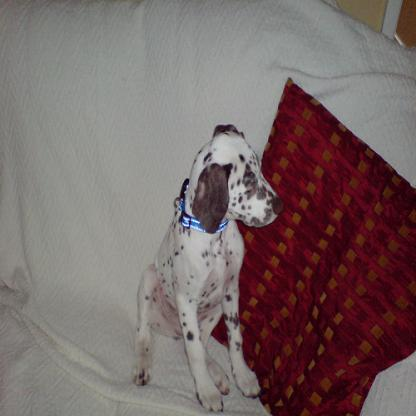dog: (132, 125, 285, 415)
sofa: (0, 0, 415, 415)
